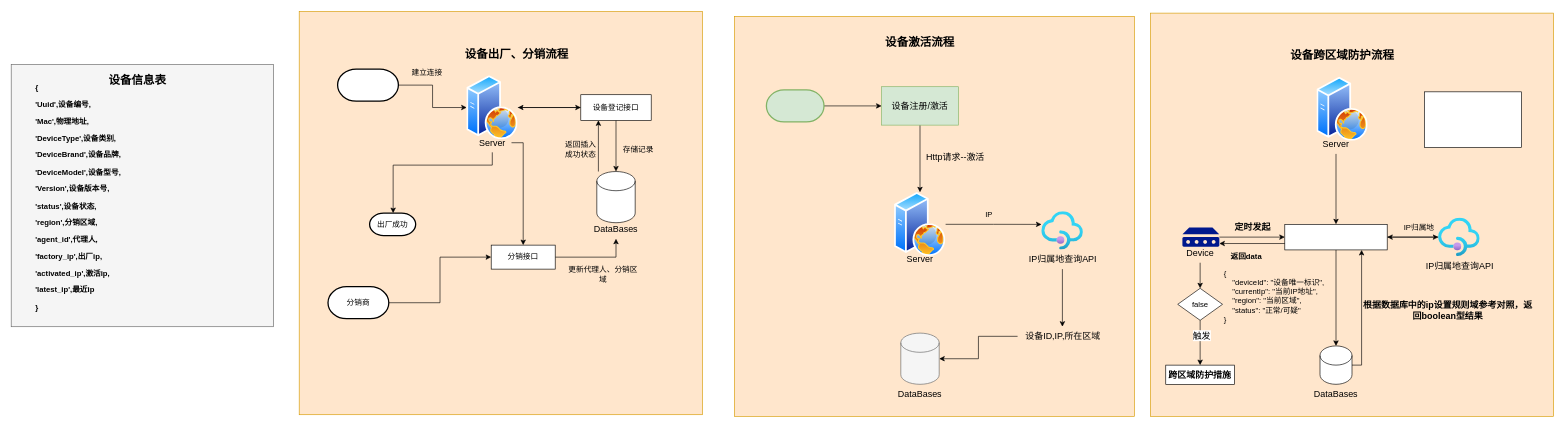
Some shapes in this 1565 by 428 pixel diagram are drawn without their labels. The centre of each missing label's shape, as x and y in pixels:
扫描条形码，准备出库。: the point at 368,84
检查IP区域合规接口: the point at 1335,237
用户: the point at 794,105
防护措施： 1.通知分销商 2.通知厂家 3.通知用户:弹窗提示: the point at 1473,119
